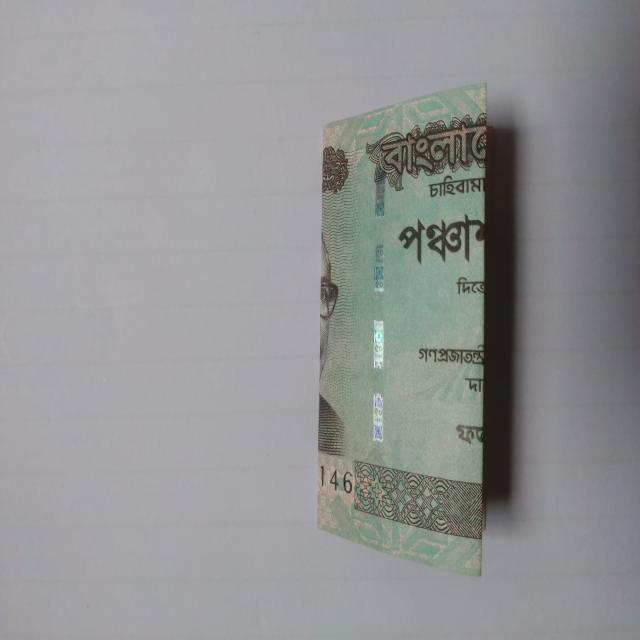Taka: (316, 89, 497, 583)
